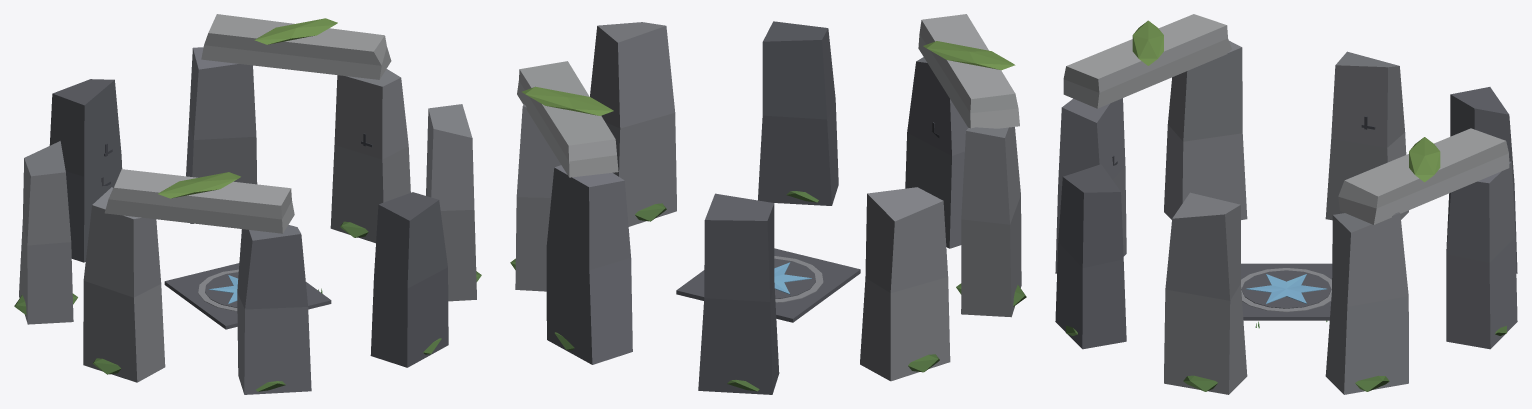
The model's file is Decor_Beanstalk_StandingStones.fbx.
3 renders of one model, left to right at view 1: azimuth 30°, elevation 25°; view 2: azimuth 150°, elevation 25°; view 3: azimuth 270°, elevation 25°, orthographic. The views are drawn at different scales.
Parts seen in each view (by area): view 1: StandingStones_Body; view 2: StandingStones_Body; view 3: StandingStones_Body.
Part boxes in pixels (x1,y1,x2,y2): StandingStones_Body: (14,14,481,394); StandingStones_Body: (510,14,1026,394); StandingStones_Body: (1055,14,1517,394).
Bounding box in the file's own units: 32.77 × 15.8 × 32.77.
